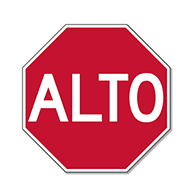SS: (23, 25, 168, 174)
